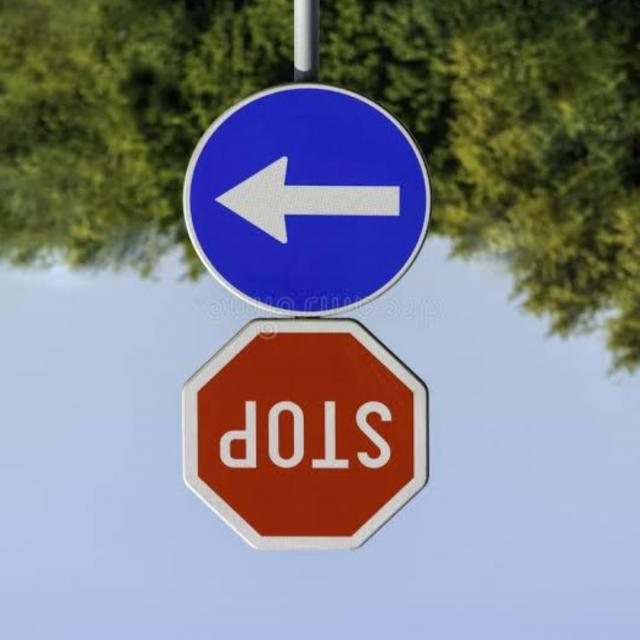Turn Left: (179, 93, 435, 310)
